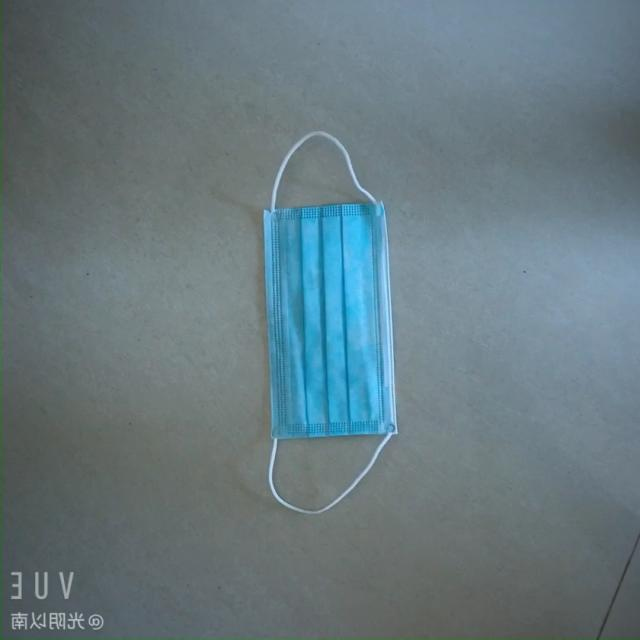face mask: (257, 182, 412, 467)
